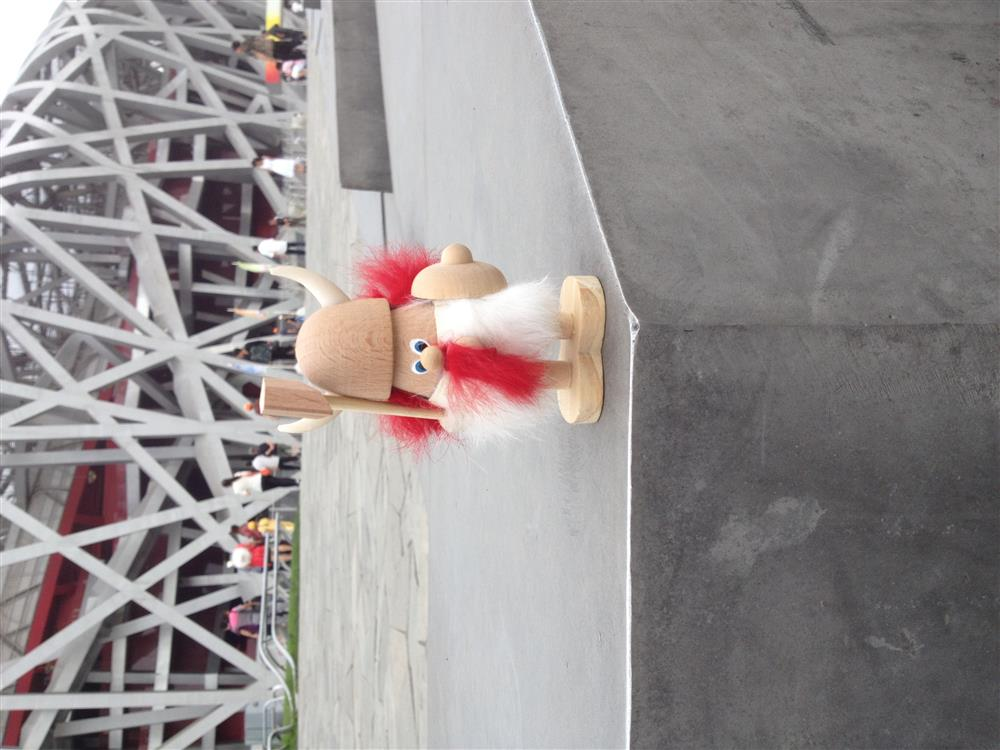dwarf: (231, 241, 614, 459)
